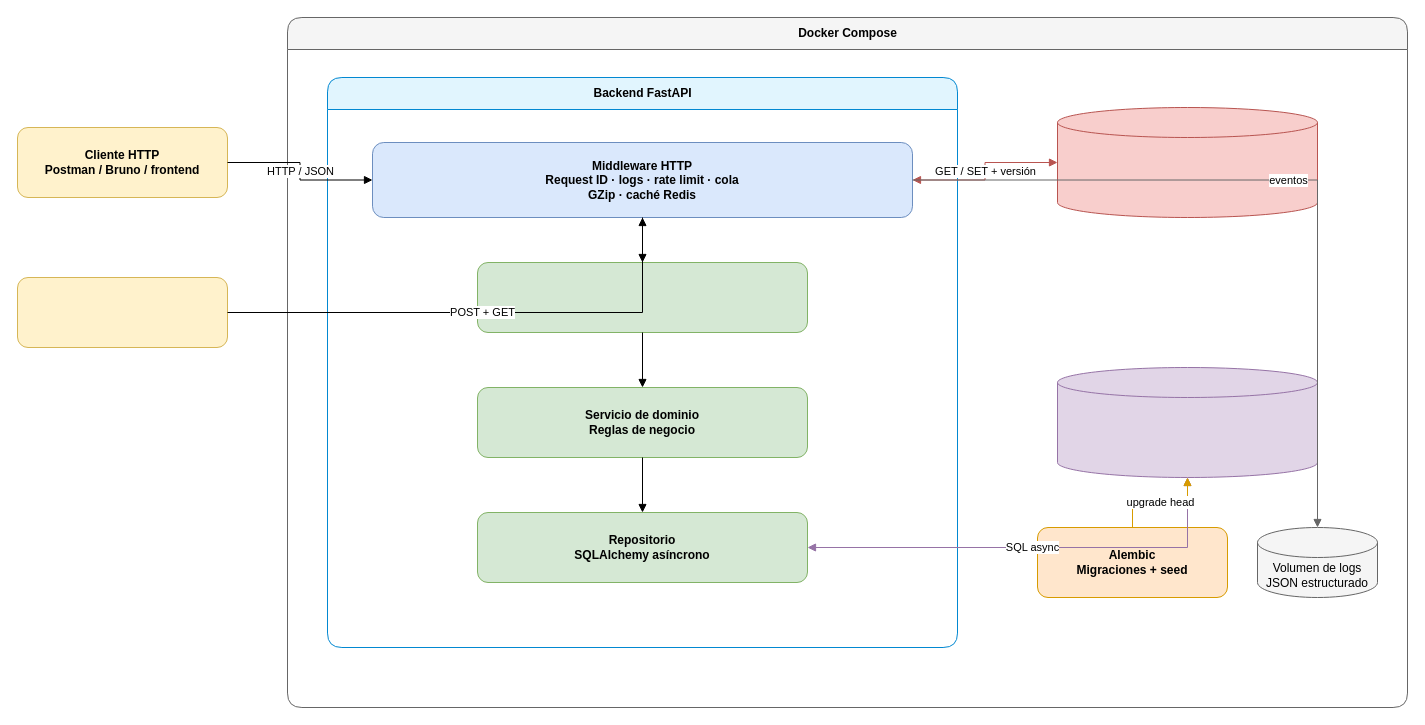
Some shapes in this 1425 by 725 pixel diagram are drawn without their labels. Here are the shapes that lost their labels. From the top down, the centre of each, then its label:
At pixel 1187 162: "Redis 7 Caché GET con TTL invalidación por versión".
At pixel 122 312: "Consumidor HTTP HTTPX + reintentos".
At pixel 642 297: "API v1 Rutas + validación Pydantic".
At pixel 1187 422: "PostgreSQL 16 Fuente de verdad".
